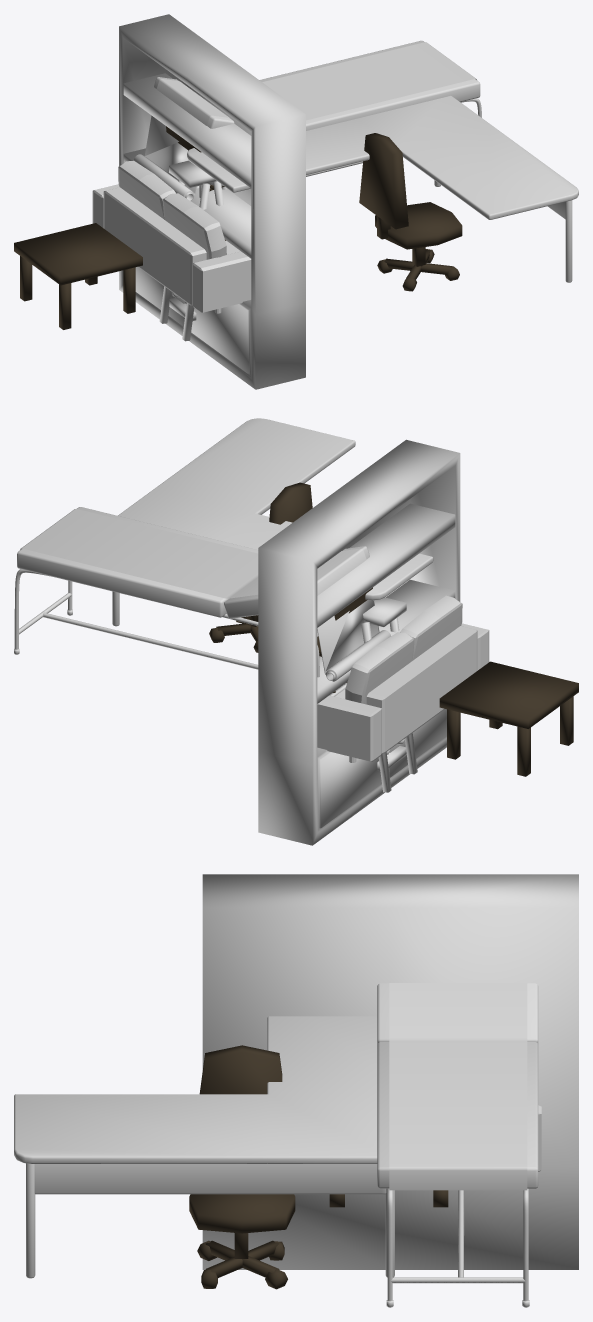
The model's file is Furniture.fbx.
The picture shows the model from 3 angles, top to bottom: view 1: azimuth 30°, elevation 25°; view 2: azimuth 150°, elevation 25°; view 3: azimuth 270°, elevation 25°; orthographic projection. The views are drawn at different scales.
Visible parts, largest first — view 1: Curpboard, DesktopClinic, Stretcher, Sofa, DesktopChair, SmallTable, Rack; view 2: Curpboard, Stretcher, DesktopClinic, Sofa, SmallTable, Rack, DesktopChair; view 3: Curpboard, DesktopClinic, Stretcher, DesktopChair.
Boxes of the visible parts, bbox=[...] form: Curpboard: bbox=[119, 14, 305, 389]; DesktopClinic: bbox=[187, 96, 578, 282]; Stretcher: bbox=[133, 40, 481, 200]; Sofa: bbox=[92, 160, 251, 313]; DesktopChair: bbox=[359, 133, 462, 291]; SmallTable: bbox=[14, 223, 142, 329]; Rack: bbox=[159, 160, 223, 341]; Curpboard: bbox=[258, 439, 460, 845]; Stretcher: bbox=[14, 507, 390, 696]; DesktopClinic: bbox=[112, 418, 433, 626]; Sofa: bbox=[317, 595, 489, 762]; SmallTable: bbox=[439, 661, 578, 776]; Rack: bbox=[361, 597, 417, 792]; DesktopChair: bbox=[209, 482, 312, 652]; Curpboard: bbox=[202, 874, 578, 1269]; DesktopClinic: bbox=[14, 1016, 394, 1278]; Stretcher: bbox=[377, 983, 538, 1307]; DesktopChair: bbox=[189, 1045, 295, 1289].
Size of the model in its own units: 4.72 by 2.65 by 3.75.
